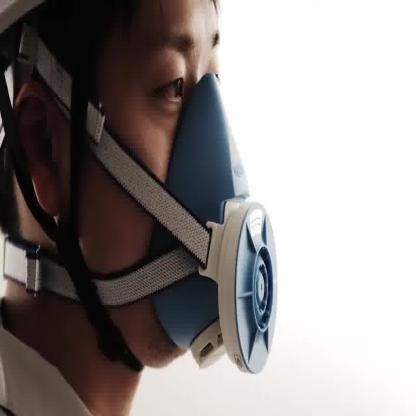mask: (145, 70, 279, 379)
